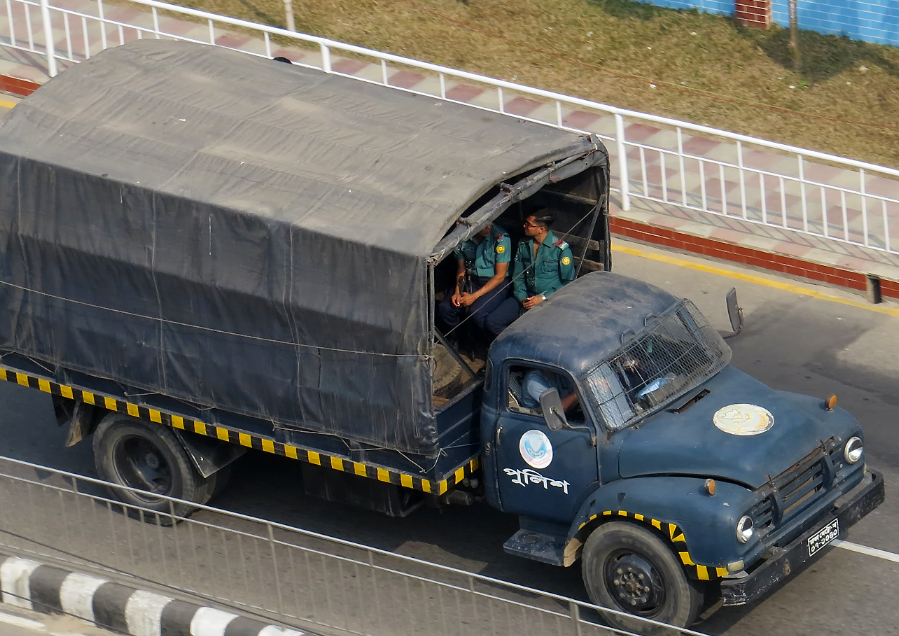Police cars: (1, 36, 888, 631)
